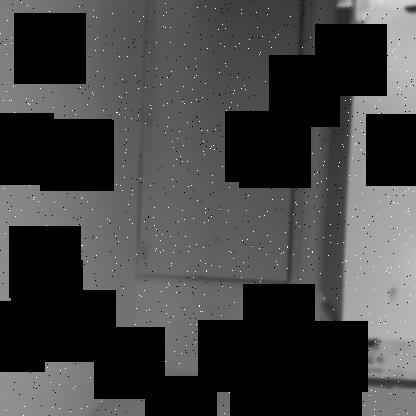Porte: (133, 1, 313, 290)
